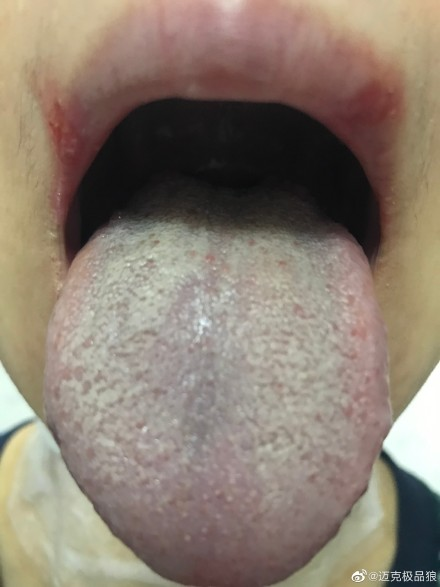baitaishe: (41, 176, 393, 587)
